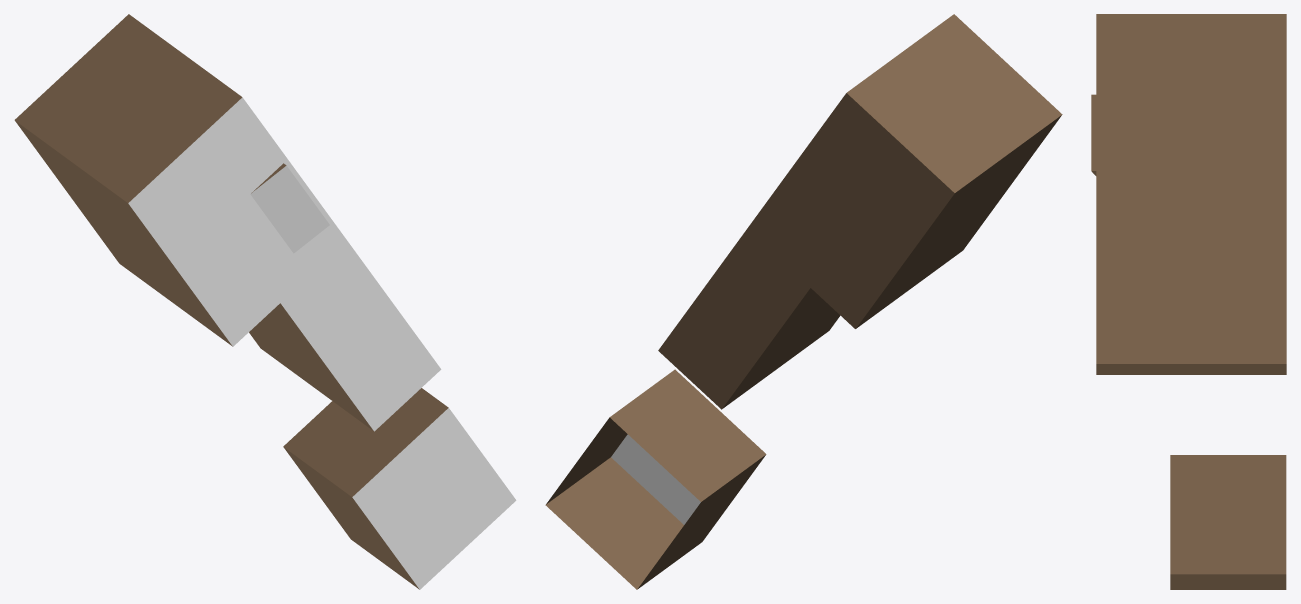
3 renders of one model, left to right at view 1: azimuth 30°, elevation 25°; view 2: azimuth 150°, elevation 25°; view 3: azimuth 270°, elevation 25°, orthographic. The views are drawn at different scales.
Parts seen in each view (by area): view 1: City_1885609; view 2: City_1885609; view 3: City_1885609.
Part boxes in pixels (x1,y1,x2,y2): City_1885609: (14,14,516,589); City_1885609: (545,14,1062,589); City_1885609: (1091,14,1286,589).
Size of the model in its own units: 2327 by 2978 by 1088.
